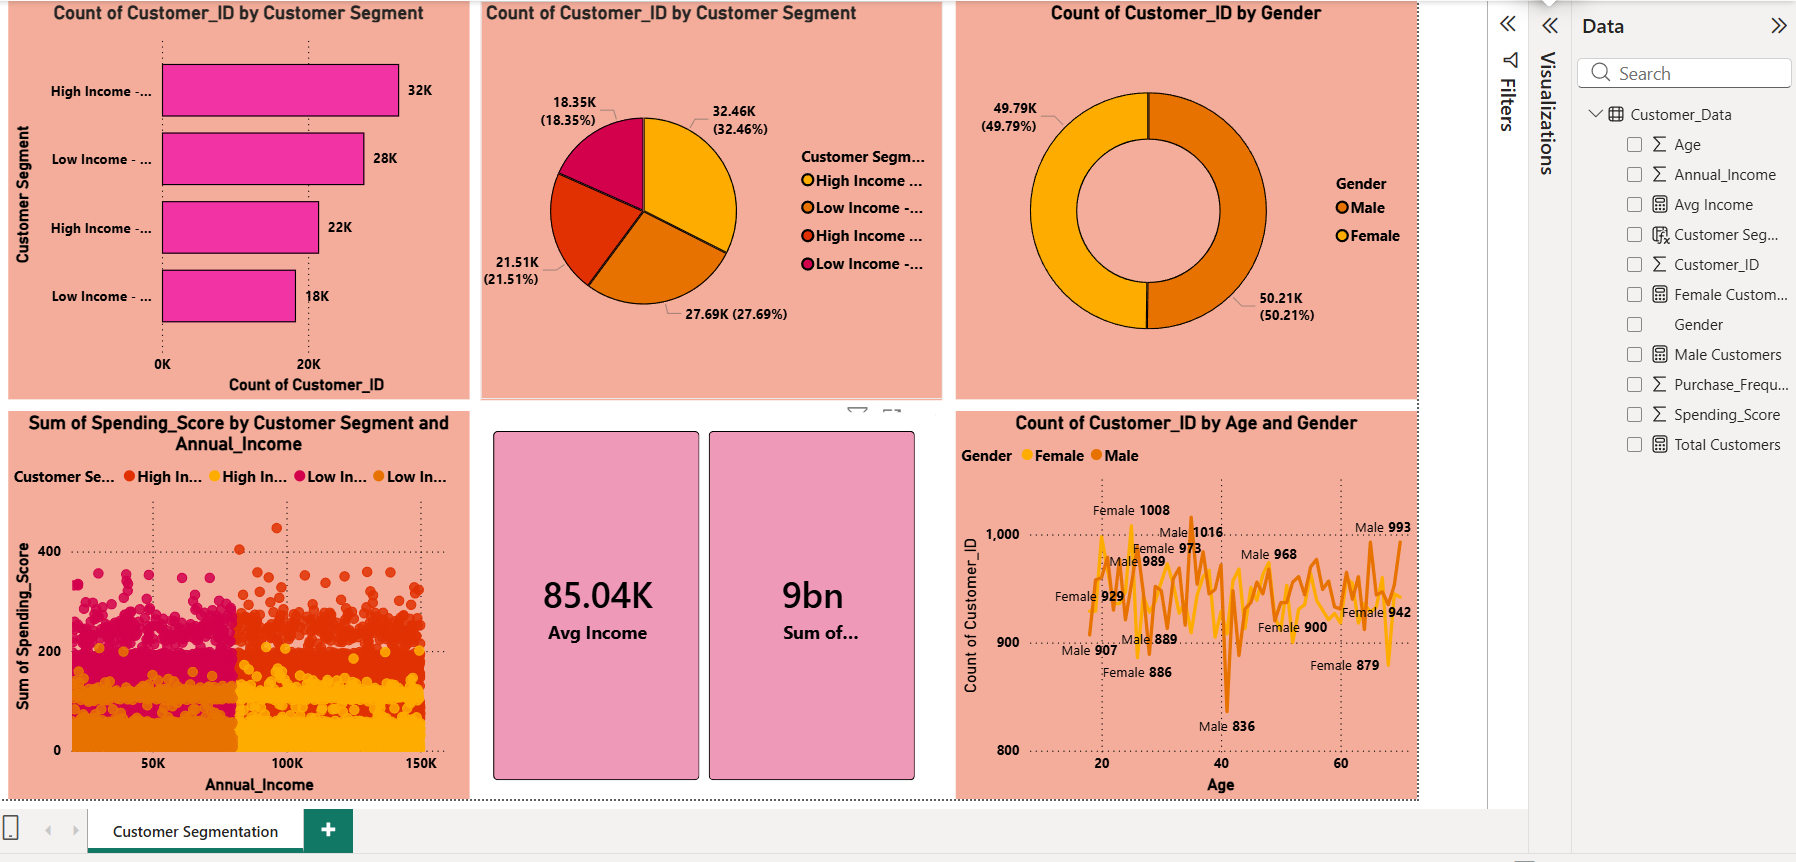

This screenshot's page, from the dashboard's own definition file:
{"tool":"powerbi","page":{"name":"Page 1","canvas":[1280,720],"ordinal":0},"visuals":[{"type":"barChart","fields":{"Category":["Customer_Data.Customer Segment"],"Y":["CountNonNull(Customer_Data.Customer_ID)"]},"box":[9.6,0,415.8,359.5],"z":0},{"type":"scatterChart","fields":{"X":["Customer_Data.Annual_Income"],"Y":["Sum(Customer_Data.Spending_Score)"],"Series":["Customer_Data.Customer Segment"]},"box":[10,370,416,350],"z":1000},{"type":"pieChart","fields":{"Y":["CountNonNull(Customer_Data.Customer_ID)"],"Category":["Customer_Data.Customer Segment"]},"box":[436,0,416,360],"z":2000},{"type":"donutChart","fields":{"Category":["Customer_Data.Gender"],"Y":["CountNonNull(Customer_Data.Customer_ID)"]},"box":[864.5,0,415.8,359.5],"z":4000},{"type":"lineChart","fields":{"Category":["Customer_Data.Age"],"Y":["CountNonNull(Customer_Data.Customer_ID)"],"Series":["Customer_Data.Gender"]},"box":[864,370,416,350],"z":5000},{"type":"cardVisual","fields":{"Data":["Customer_Data.Avg Income","Sum(Customer_Data.Annual_Income)"]},"box":[430.9,370.5,415.8,349.9],"z":5001}]}

Visuals, with their boxes on the page's 1280x720 design canvas (x1, y1, x2, y2). These are canvas units, not pixel positions in the 1796x862 screenshot, which may show the page scaled, cropped or inside an application window:
barChart - Customer_Data.Customer Segment x CountNonNull(Customer_Data.Customer_ID): {"x1": 10, "y1": 0, "x2": 425, "y2": 360}
scatterChart - Customer_Data.Annual_Income x Sum(Customer_Data.Spending_Score): {"x1": 10, "y1": 370, "x2": 426, "y2": 720}
pieChart - CountNonNull(Customer_Data.Customer_ID) x Customer_Data.Customer Segment: {"x1": 436, "y1": 0, "x2": 852, "y2": 360}
donutChart - Customer_Data.Gender x CountNonNull(Customer_Data.Customer_ID): {"x1": 864, "y1": 0, "x2": 1280, "y2": 360}
lineChart - Customer_Data.Age x CountNonNull(Customer_Data.Customer_ID): {"x1": 864, "y1": 370, "x2": 1280, "y2": 720}
cardVisual - Customer_Data.Avg Income x Sum(Customer_Data.Annual_Income): {"x1": 431, "y1": 370, "x2": 847, "y2": 720}
